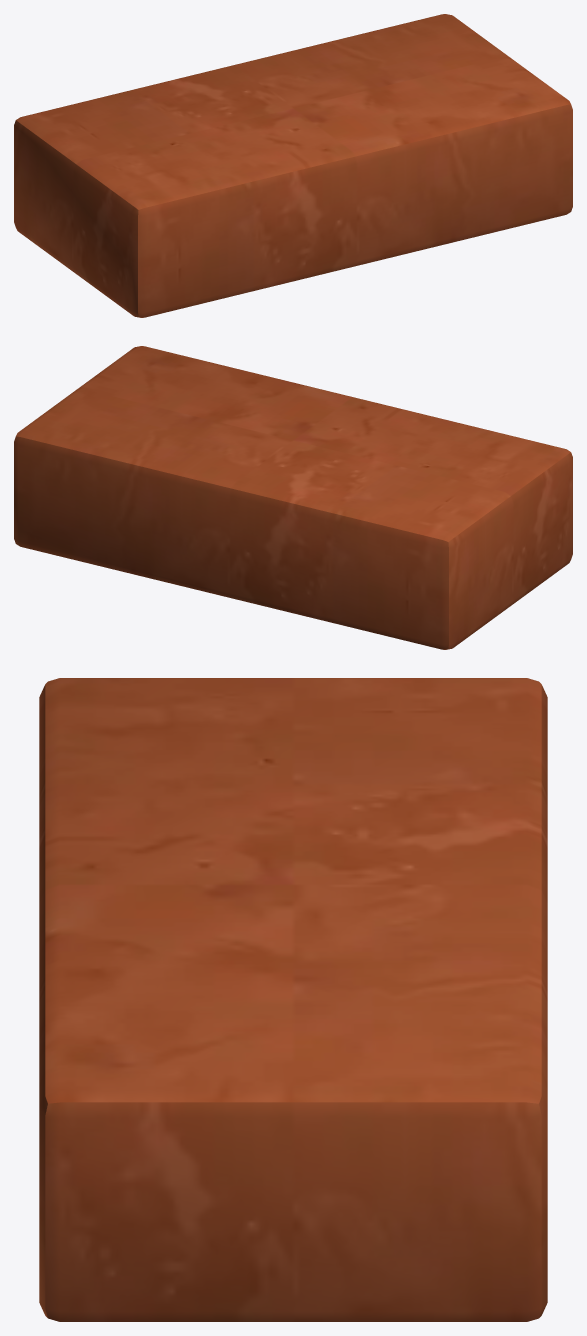
Rendered from ALV-TIJ-001.glb.
3 renders of one model, top to bottom at view 1: azimuth 30°, elevation 25°; view 2: azimuth 150°, elevation 25°; view 3: azimuth 270°, elevation 25°, orthographic. The views are drawn at different scales.
Parts seen in each view (by area): view 1: ALV-TIJ-001_peca; view 2: ALV-TIJ-001_peca; view 3: ALV-TIJ-001_peca.
Part boxes in pixels (x1,y1,x2,y2): ALV-TIJ-001_peca: [14, 14, 572, 317]; ALV-TIJ-001_peca: [14, 346, 572, 649]; ALV-TIJ-001_peca: [39, 678, 547, 1321].
Size of the model in its own units: 0.2 by 0.05 by 0.1.
Materials: 1 (1 with a texture image).
